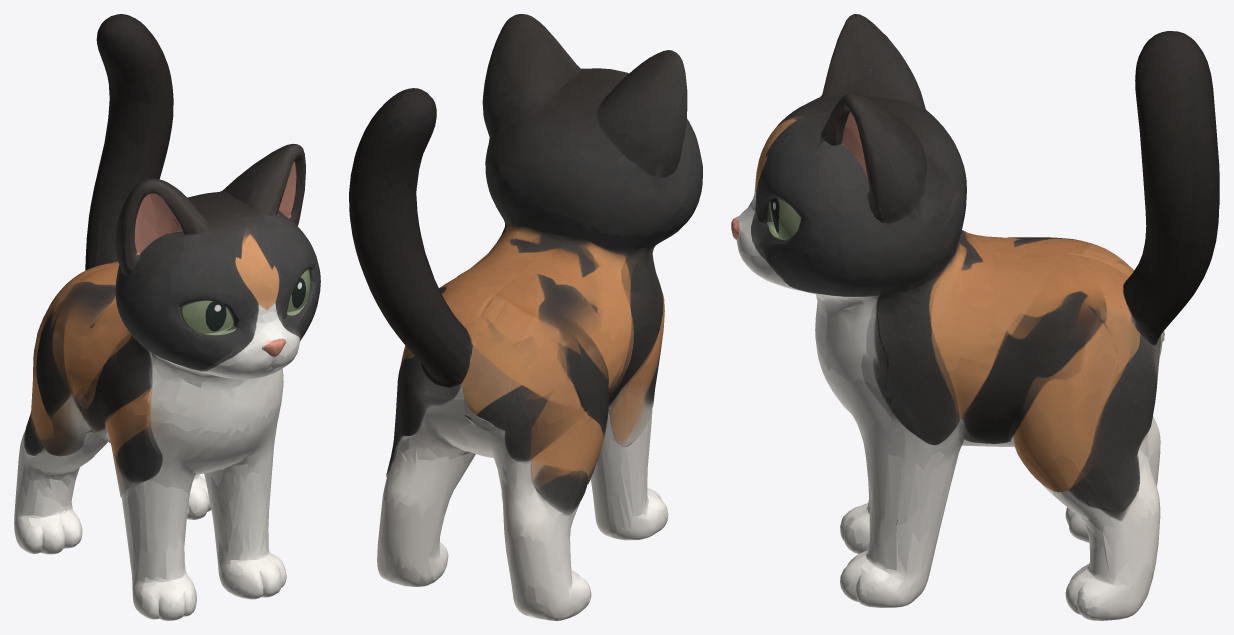
3 views of the same model, side by side, from view 1: azimuth 30°, elevation 25°; view 2: azimuth 150°, elevation 25°; view 3: azimuth 270°, elevation 25° (orthographic). The views are drawn at different scales.
Size of the model in its own units: 0.7904 by 1.9 by 1.51.
1 material, 1 textured.
